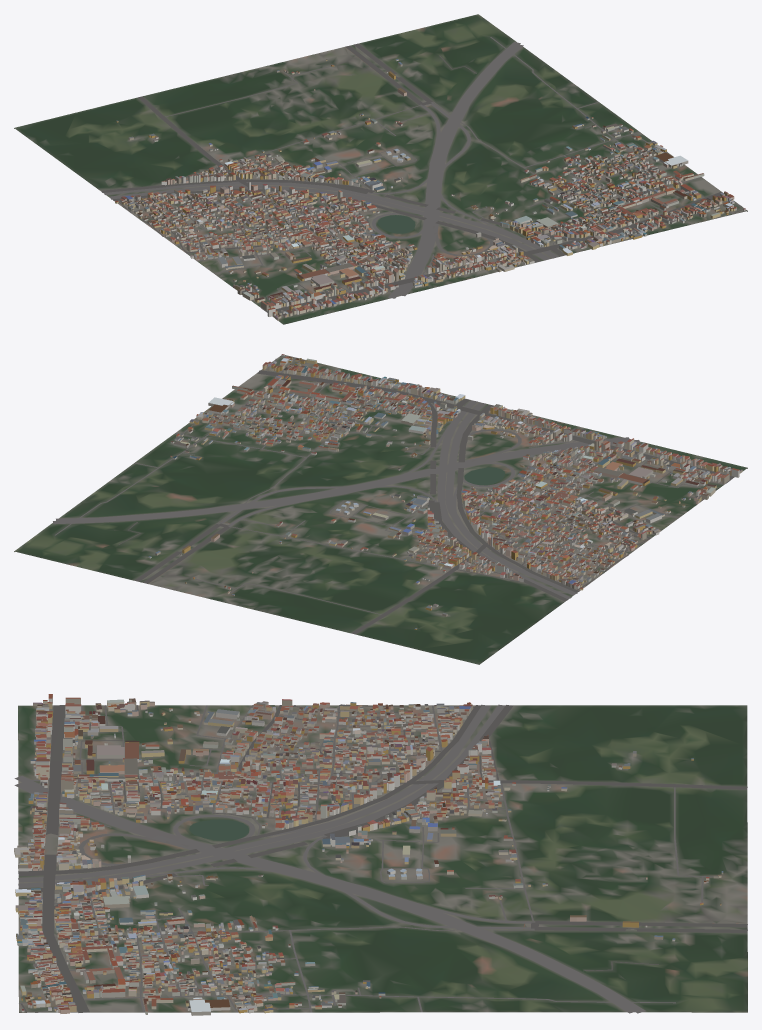
The picture shows the model from 3 angles, top to bottom: view 1: azimuth 30°, elevation 25°; view 2: azimuth 150°, elevation 25°; view 3: azimuth 270°, elevation 25°; orthographic projection. The views are drawn at different scales.
Parts seen in each view (by area): view 1: ground, buildings, roads, water; view 2: ground, buildings, roads, water; view 3: ground, buildings, roads, water.
Boxes of the visible parts, x1,y1,x2,y2 form: ground: (14, 14, 747, 324); buildings: (115, 59, 745, 320); roads: (101, 37, 742, 312); water: (378, 215, 415, 233); ground: (14, 355, 747, 664); buildings: (148, 354, 742, 629); roads: (53, 356, 734, 634); water: (464, 467, 504, 485); ground: (18, 705, 747, 1012); buildings: (14, 694, 723, 1015); roads: (14, 704, 747, 1013); water: (189, 819, 248, 840).
Bounding box in the file's own units: 1421 × 30.14 × 1411.
